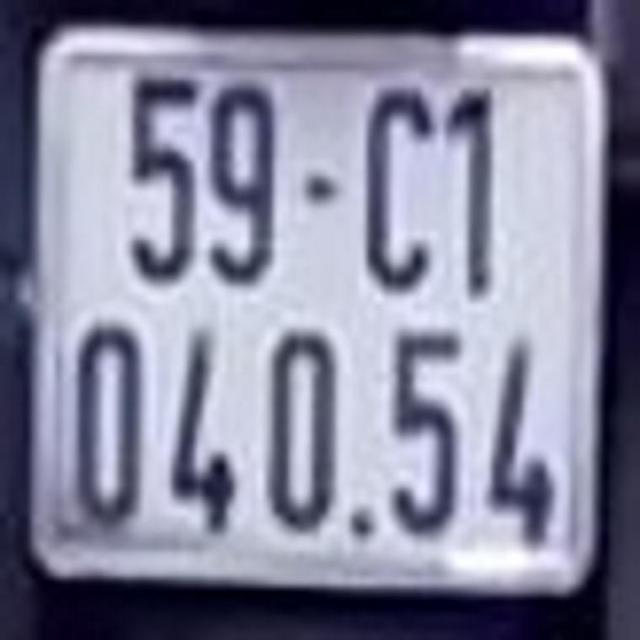0: (264, 327, 332, 523), (78, 327, 136, 522)
1: (446, 90, 501, 306)
4: (173, 328, 239, 530), (493, 343, 543, 548)
5: (393, 333, 458, 524), (134, 84, 196, 276)
9: (210, 82, 272, 280)
C: (370, 82, 433, 287)
